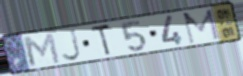4: (160, 14, 187, 47)
5: (119, 18, 149, 53)
J: (59, 28, 83, 62)
M: (181, 7, 222, 46), (20, 31, 63, 68)
T: (89, 22, 113, 59)
